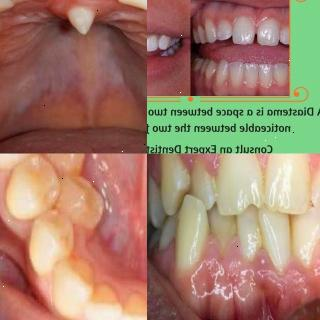Gum Swelling: (181, 242, 320, 291), (147, 154, 229, 172)
calculus: (224, 217, 250, 244)
maligned: (55, 165, 110, 227), (176, 195, 212, 276), (261, 204, 293, 271), (58, 0, 105, 42), (187, 156, 215, 212), (40, 153, 92, 175), (308, 157, 320, 207)
plaque: (150, 153, 188, 187)
